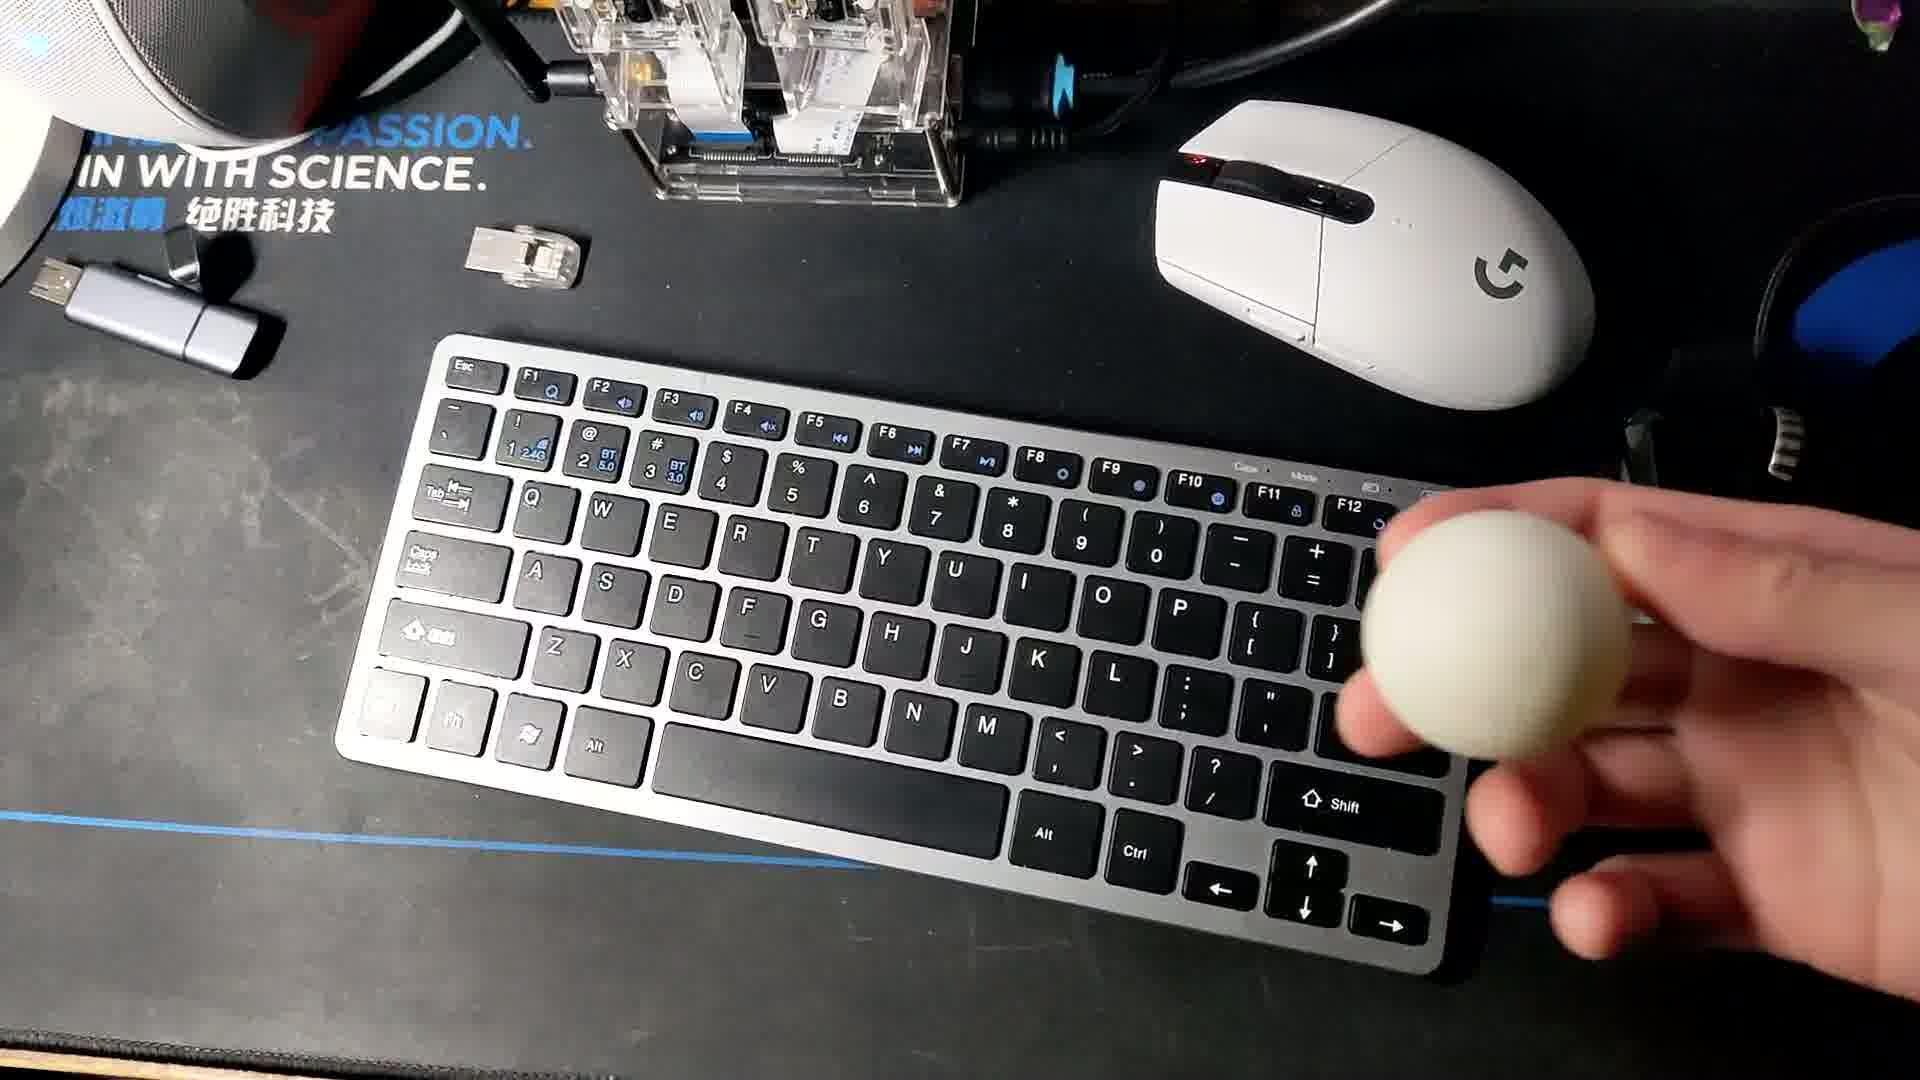Ball: (1361, 517, 1629, 758)
